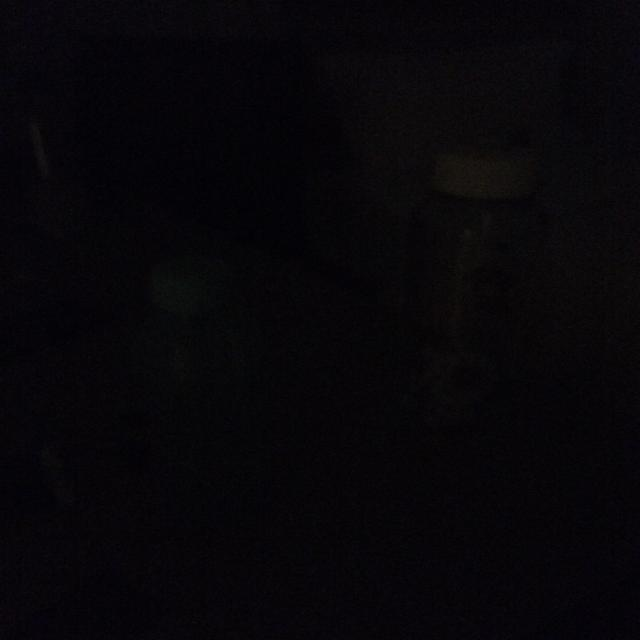Bottle: (411, 118, 553, 482), (131, 218, 235, 450)
